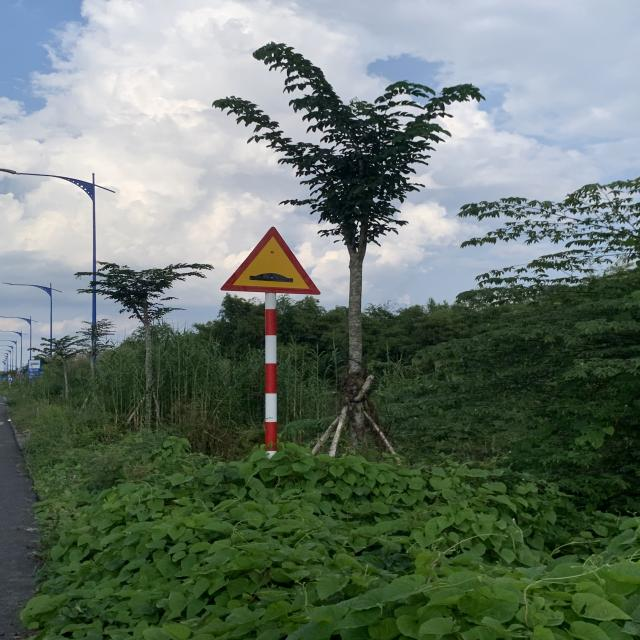Duong_Cong_Ben_Phai: (218, 223, 323, 296)
